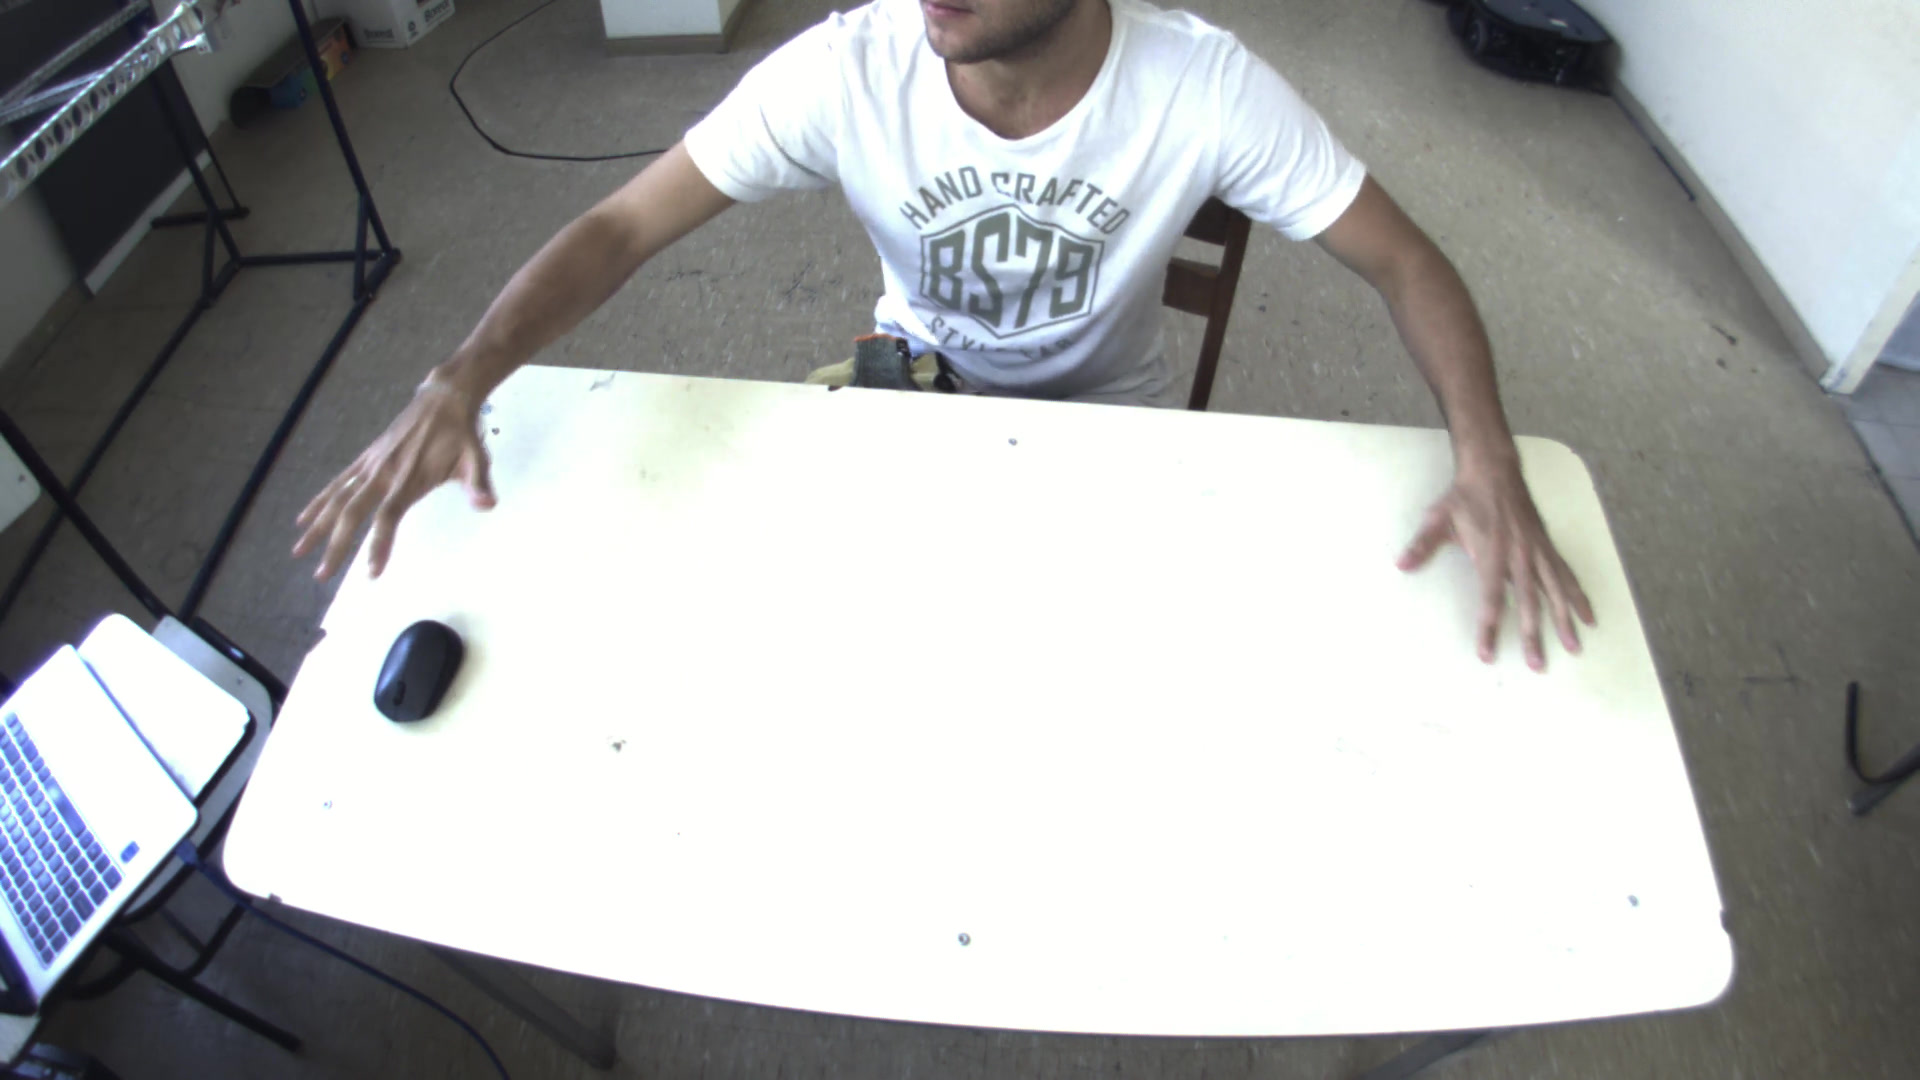hand: (272, 359, 495, 605), (1398, 438, 1615, 683)
